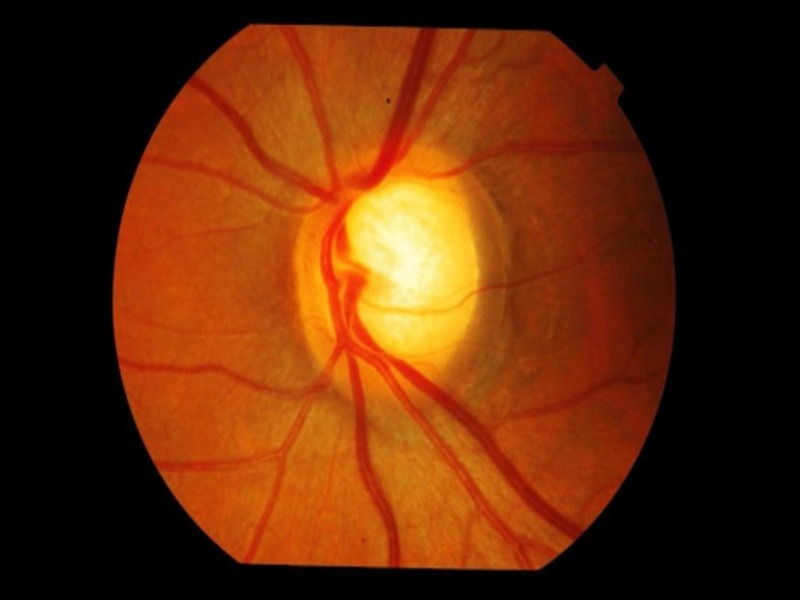Optic Cup: (352, 184, 442, 344)
Optic Disc: (292, 128, 503, 408)
